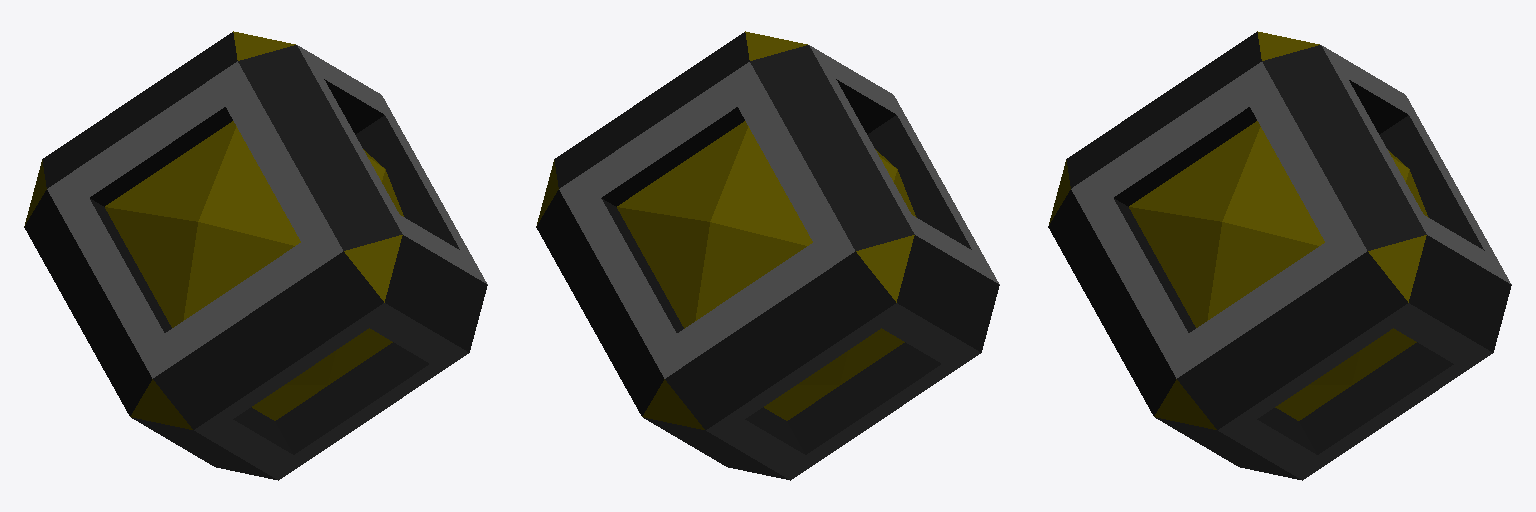
File: powerUp.obj
The picture shows the model from 3 angles: view 1: azimuth 30°, elevation 25°; view 2: azimuth 150°, elevation 25°; view 3: azimuth 270°, elevation 25°; orthographic projection.
Parts seen in each view (by area): view 1: Cube_Cube.001; view 2: Cube_Cube.001; view 3: Cube_Cube.001.
Boxes of the visible parts, x1,y1,x2,y2 form: Cube_Cube.001: [24, 31, 487, 480]; Cube_Cube.001: [536, 31, 999, 480]; Cube_Cube.001: [1048, 31, 1511, 480].
Size of the model in its own units: 0.746 by 0.8314 by 0.8311.